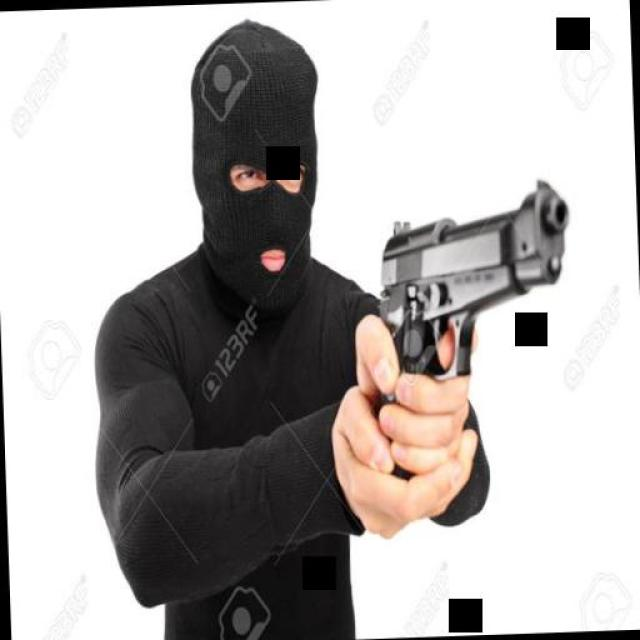gun: (368, 178, 576, 448)
